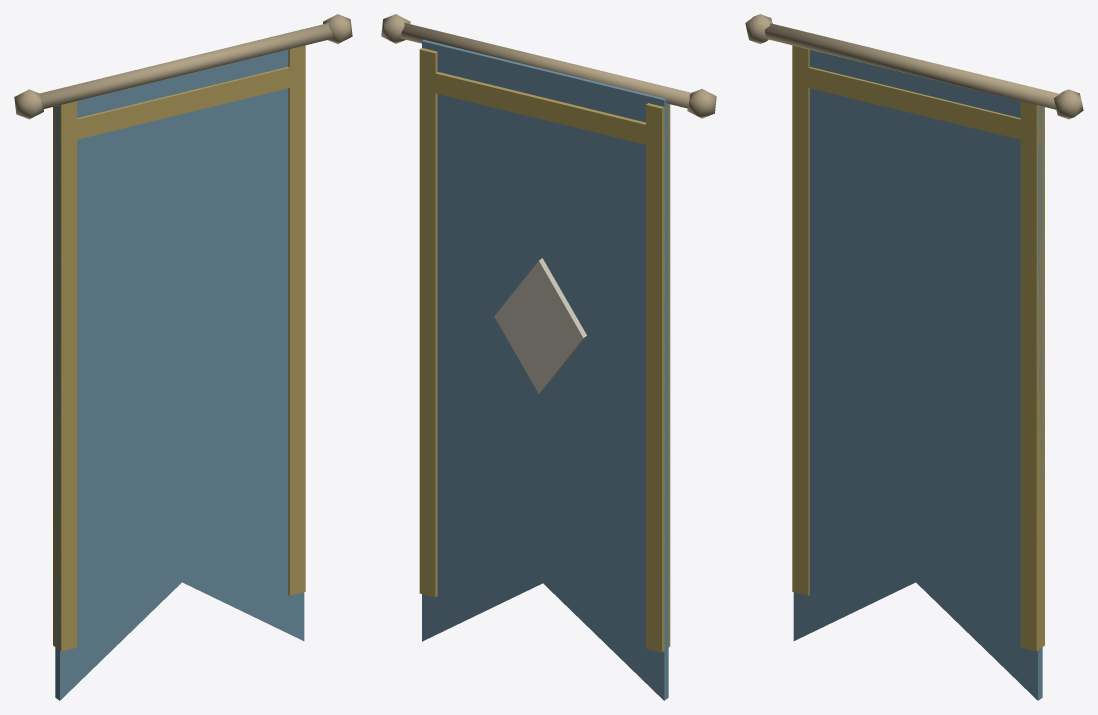
The model's file is ice_slime_banner_v0.glb.
3 views of the same model, side by side, from view 1: azimuth 30°, elevation 25°; view 2: azimuth 150°, elevation 25°; view 3: azimuth 330°, elevation 25° (orthographic).
Visible parts, largest first — view 1: ice_slime_banner_v0; view 2: ice_slime_banner_v0; view 3: ice_slime_banner_v0.
Boxes of the visible parts, x1,y1,x2,y2 form: ice_slime_banner_v0: [14, 14, 352, 700]; ice_slime_banner_v0: [381, 14, 716, 700]; ice_slime_banner_v0: [745, 14, 1083, 700].
Bounding box in the file's own units: 1.04 × 1.84 × 0.0933.
